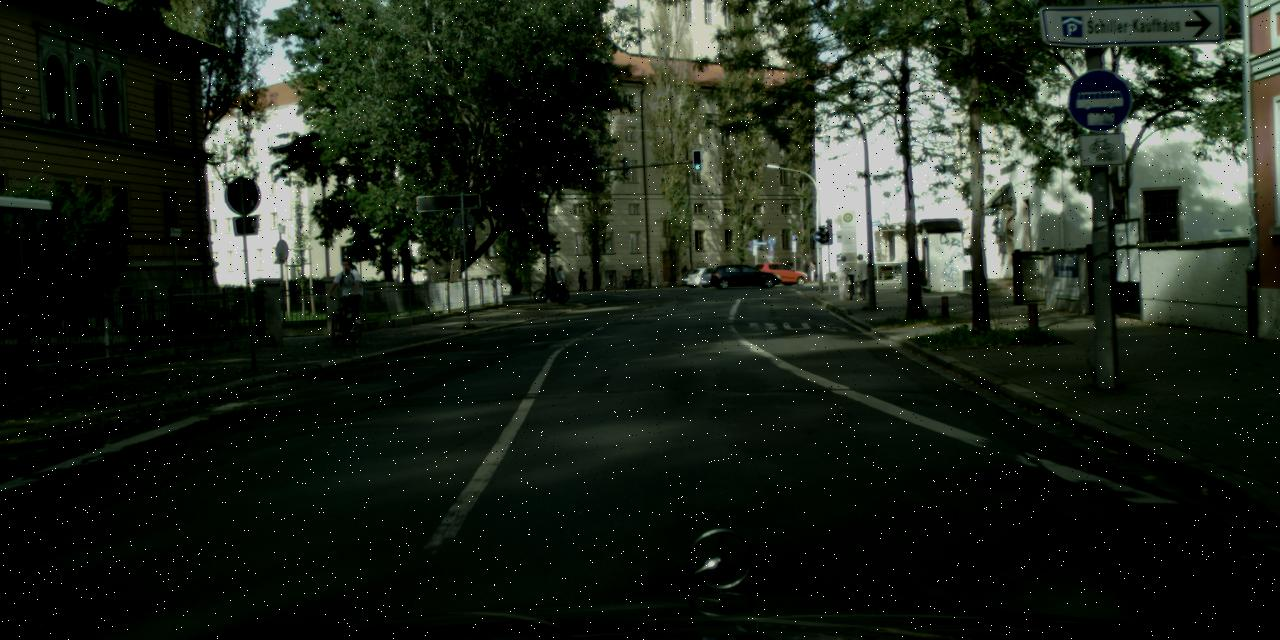ped: (332, 258, 362, 328), (833, 254, 851, 300), (852, 253, 870, 299), (553, 264, 569, 302), (544, 267, 558, 301), (802, 260, 816, 282), (579, 269, 587, 291), (681, 264, 688, 282)
